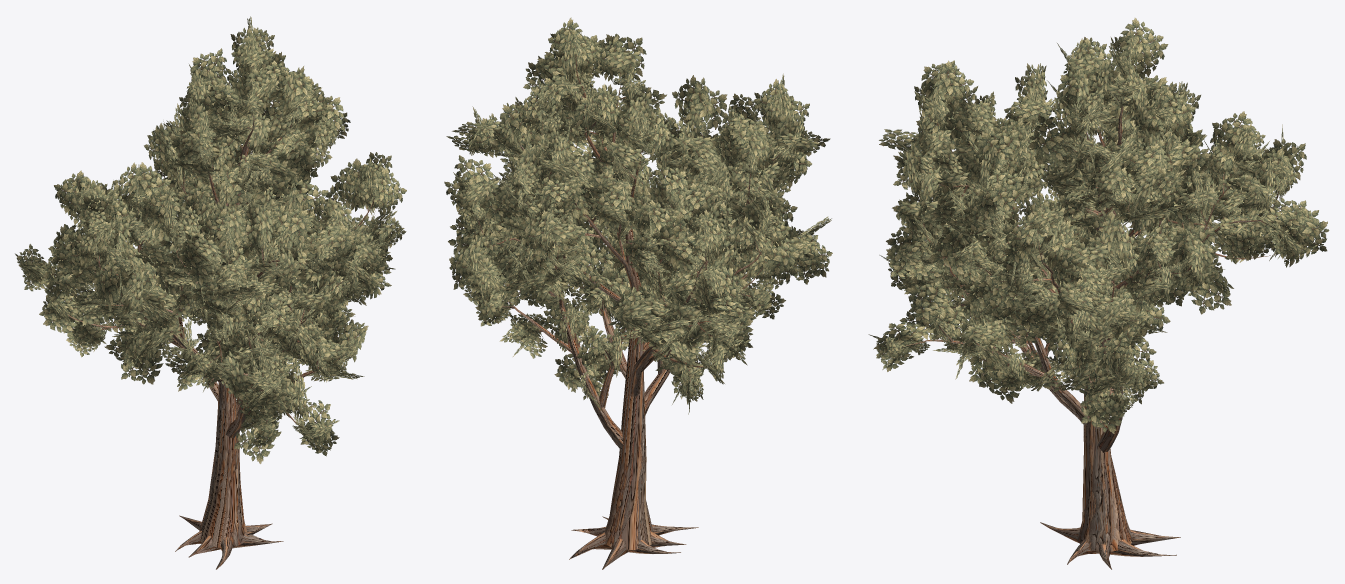
The model's file is tree6.glb.
The picture shows the model from 3 angles, left to right: view 1: azimuth 30°, elevation 25°; view 2: azimuth 150°, elevation 25°; view 3: azimuth 270°, elevation 25°; orthographic projection. The views are drawn at different scales.
Visible parts, largest first — view 1: Leaves_LOD0.005 (×2), Branches_LOD0.005 (×2); view 2: Leaves_LOD0.005 (×2), Branches_LOD0.005 (×2); view 3: Leaves_LOD0.005 (×2), Branches_LOD0.005 (×2).
Part boxes in pixels (x1=…): Leaves_LOD0.005 (×2): x1=15, y1=16, x2=406, y2=463; Branches_LOD0.005 (×2): x1=68, y1=66, x2=374, y2=569; Leaves_LOD0.005 (×2): x1=444, y1=17, x2=832, y2=414; Branches_LOD0.005 (×2): x1=477, y1=54, x2=799, y2=569; Leaves_LOD0.005 (×2): x1=868, y1=18, x2=1329, y2=433; Branches_LOD0.005 (×2): x1=902, y1=77, x2=1280, y2=569.
Bounding box in the file's own units: 30.45 × 46.02 × 34.83.
Materials: 4 (4 with a texture image).
